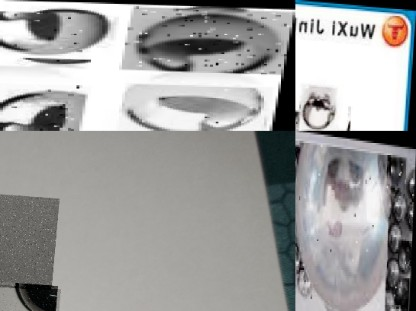ironball: (295, 139, 392, 311), (123, 5, 294, 72), (121, 81, 277, 130), (0, 7, 112, 63), (0, 83, 94, 130), (300, 83, 339, 130), (386, 152, 406, 185), (395, 273, 411, 307), (398, 236, 412, 266), (338, 117, 363, 130), (295, 110, 301, 130), (392, 305, 403, 311)
